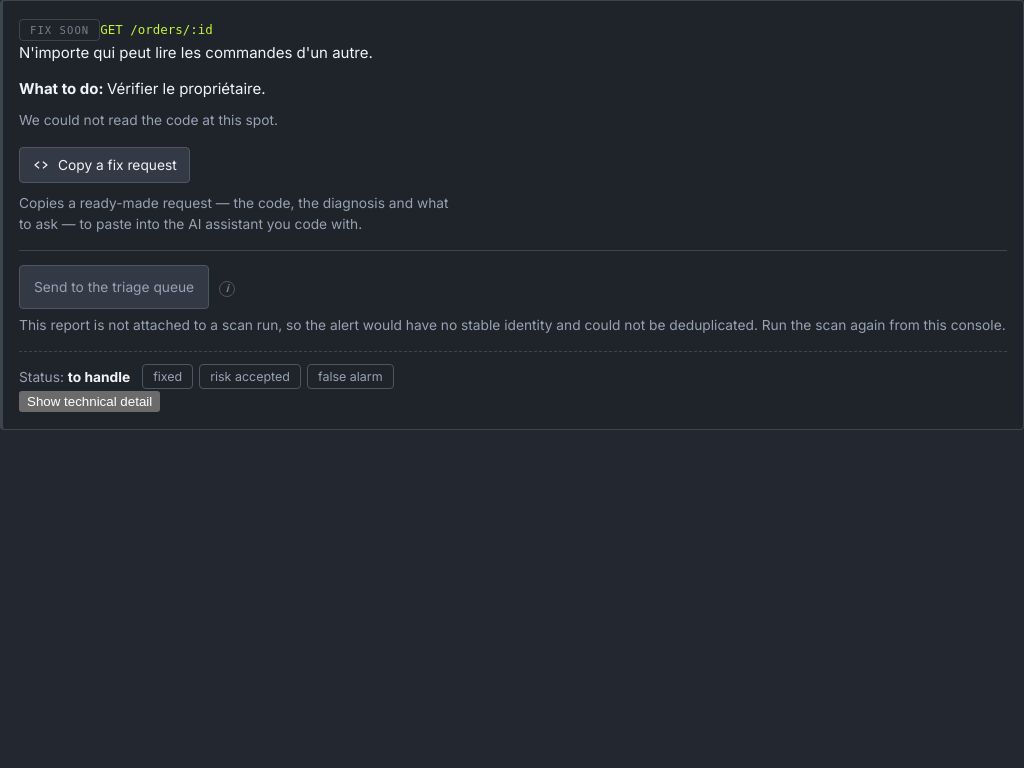
Test: Statut à l écran › demande la justification avant d écarter, et refuse le vide
Click the button "risk accepted" at (250,377), box [199,364,301,389]
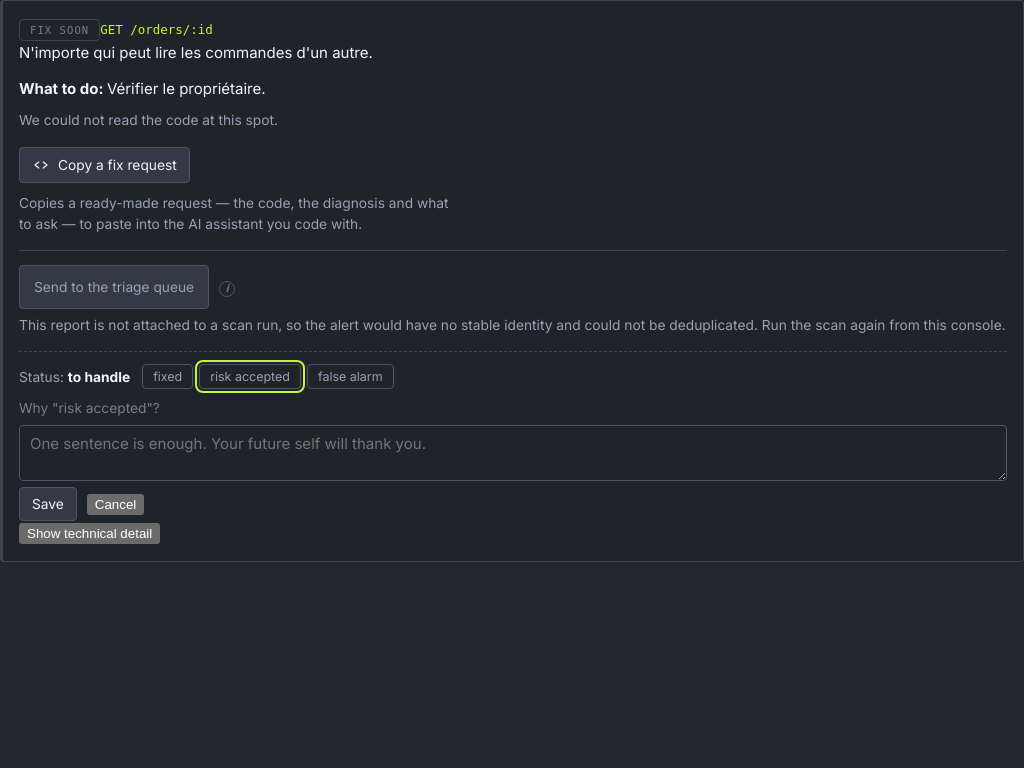
Click the button "Save" at (48,504), box [19,487,77,521]
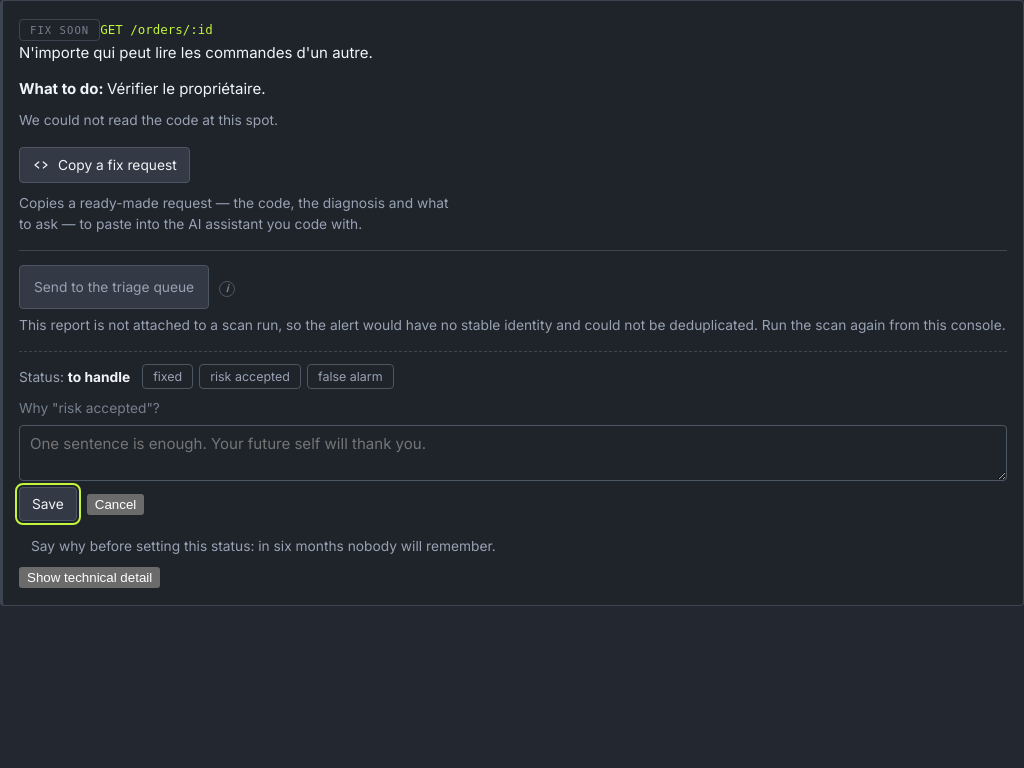
Now the message "Say why before setting this status: in six months nobody will remember." is shown, box [31,538,496,554]
Type "Route interne, jamais exposée." into the text box at (513,453), box [19,425,1007,481]
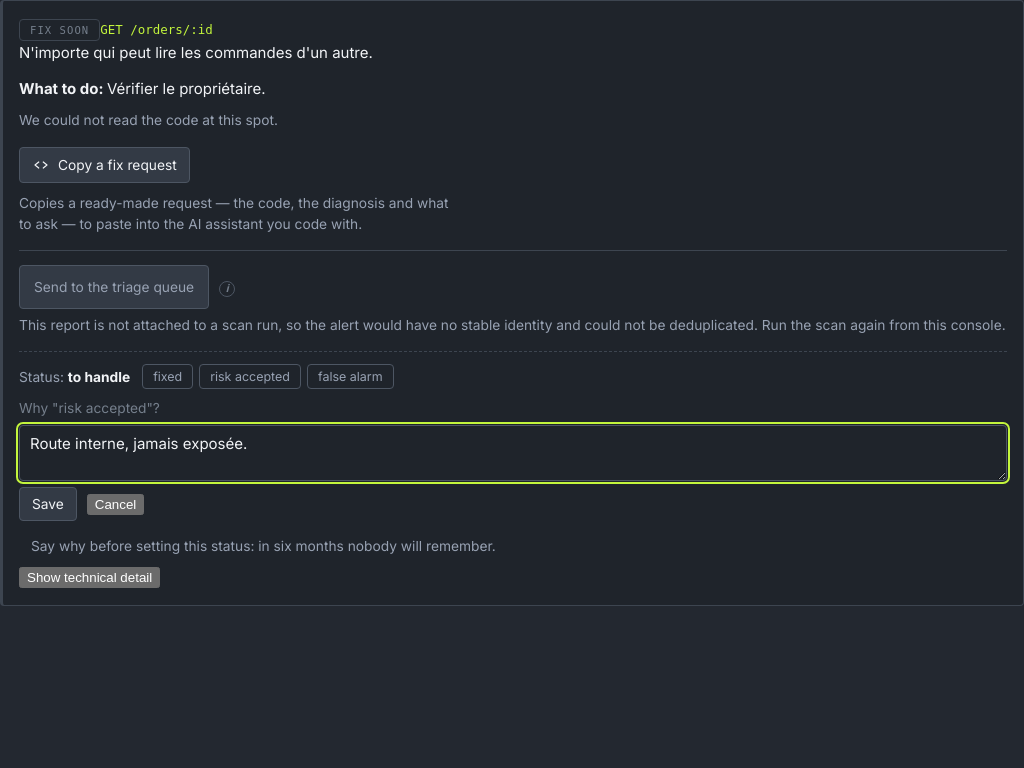
Click the button "Save" at (48,504), box [19,487,77,521]
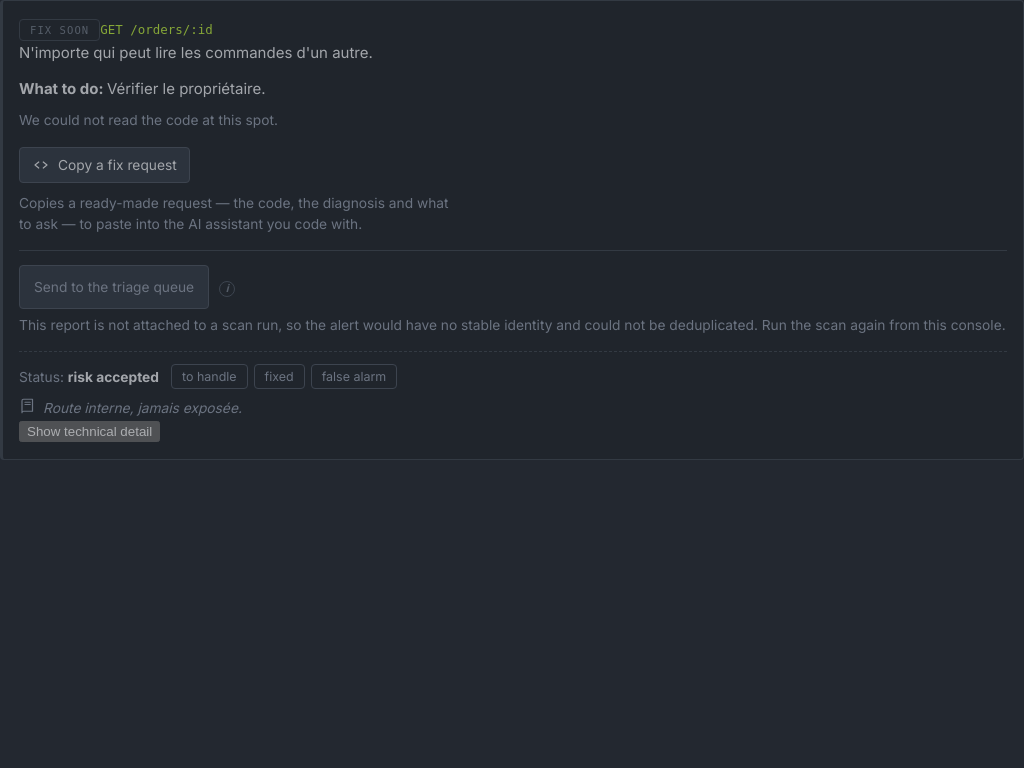
Now the text "Route interne, jamais exposée." is shown, box [19,397,242,416]
